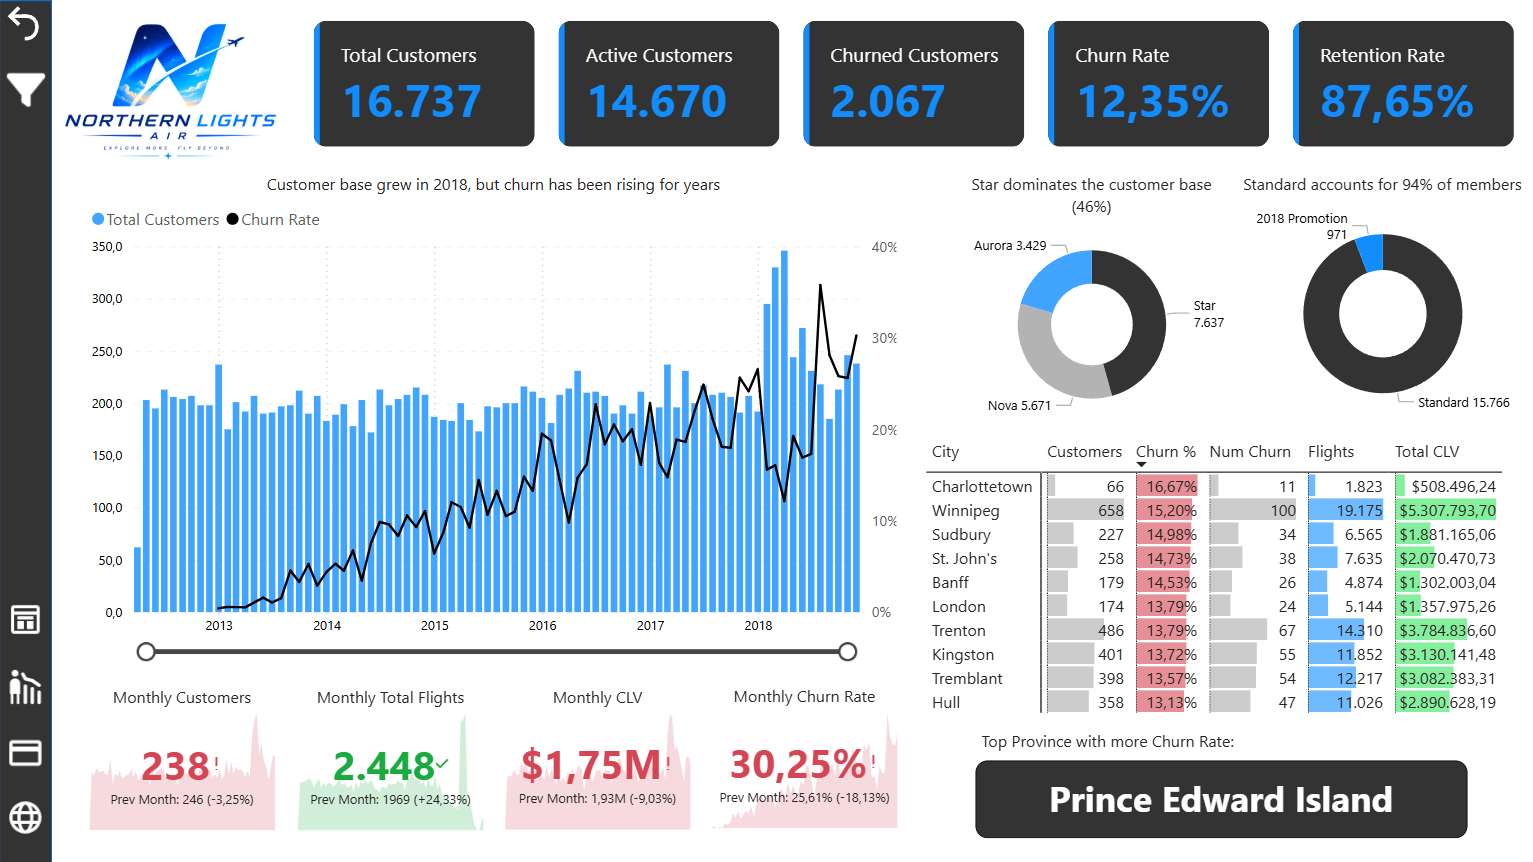

Layout of this report page (visuals, bound fields, positions):
{"tool":"powerbi","page":{"name":"Overview","canvas":[1280,720],"ordinal":0},"visuals":[{"type":"kpi","title":"Monthly Customers","fields":{"TrendLine":["Calendar.StartOfMonth"],"Goal":["Measures DAX.Previous Month Customers"],"Indicator":["Measures DAX.Total Customers (Time)"]},"box":[70.6,571.5,165,125.4],"z":0},{"type":"shape","box":[0,0,44.3,720],"z":1000},{"type":"image","box":[44.1,7.7,200.5,133.3],"z":2000},{"type":"lineStackedColumnComboChart","title":"Customer base grew in 2018, but churn has been rising for years","fields":{"Y2":["Measures DAX.Churn Rate (Time)"],"Y":["Measures DAX.Total Customers (Time)"],"Category":["Calendar.StartOfMonth"]},"box":[71.7,143.3,681.7,410],"z":3000},{"type":"cardVisual","fields":{"Data":["Measures DAX.Total Customers (Time)","Measures DAX.Active Customers (Time)","Measures DAX.Churned Customers (Time)","Measures DAX.Churn Rate (Time)","Measures DAX.Retencion Rate (Time)"]},"box":[244.4,0,1035.2,139.8],"z":4000},{"type":"actionButton","box":[1.4,0,44.3,38.6],"z":5000},{"type":"actionButton","box":[2,55,44.3,40],"z":6000},{"type":"donutChart","title":"Star dominates the customer base (46%)","fields":{"Category":["Customer_Loyalty_History.LoyaltyCard"],"Y":["Measures DAX.Total Customers (Time)"]},"box":[788.3,143.3,243.3,216.7],"z":7000},{"type":"kpi","title":"Monthly Total Flights","fields":{"TrendLine":["Calendar.StartOfMonth"],"Indicator":["Measures DAX.Total Flights (Time)"],"Goal":["Measures DAX.Previous Month Total Flights"]},"box":[243.2,571.4,165,125.7],"z":8000},{"type":"kpi","title":"Monthly CLV","fields":{"TrendLine":["Calendar.StartOfMonth"],"Goal":["Measures DAX.Previous Month CLV"],"Indicator":["Measures DAX.Total CLV (Time)"]},"box":[415.7,571.7,165,125.2],"z":9000},{"type":"kpi","title":"Monthly Churn Rate","fields":{"TrendLine":["Calendar.StartOfMonth"],"Indicator":["Measures DAX.Churn Rate (Time)"],"Goal":["Measures DAX.Previous Month Churn Rate"]},"box":[588.3,570,165,125],"z":10000},{"type":"donutChart","title":"Standard accounts for 94% of members","fields":{"Y":["Measures DAX.Total Customers (Time)"],"Category":["Customer_Loyalty_History.EnrollmentType"]},"box":[1031.7,143.3,243.3,216.7],"z":11000},{"type":"textbox","box":[813.8,602.1,224.8,31.6],"z":12000},{"type":"card","fields":{"Values":["Min(Customer_Loyalty_History.Province)"]},"box":[813.8,633.7,410.2,64.4],"z":13000},{"type":"pivotTable","fields":{"Rows":["Customer_Loyalty_History.City"],"Values":["Measures DAX.Total Customers (Time)","Measures DAX.Churn Rate (Time)","Measures DAX.Churned Customers (Time)","Measures DAX.Total Flights (Time)","Measures DAX.Total CLV (Time)"]},"box":[766.9,359.9,491.1,239.9],"z":14000},{"type":"actionButton","box":[0,496.7,44.2,40],"z":15000},{"type":"actionButton","box":[0,551.9,44.4,40],"z":16000},{"type":"actionButton","box":[0,607.3,44.4,40],"z":17000},{"type":"actionButton","box":[0,661.4,44.3,40],"z":18000}]}

Visuals, with their boxes on the page's 1280x720 design canvas (x1, y1, x2, y2). These are canvas units, not pixel positions in the 1533x862 screenshot, which may show the page scaled, cropped or inside an application window:
"Monthly Customers" kpi: crop(71, 572, 236, 697)
shape: crop(0, 0, 44, 720)
image: crop(44, 8, 245, 141)
"Customer base grew in 2018, but churn has been rising for years" lineStackedColumnComboChart: crop(72, 143, 753, 553)
cardVisual - Measures DAX.Total Customers (Time) x Measures DAX.Active Customers (Time): crop(244, 0, 1280, 140)
actionButton: crop(1, 0, 46, 39)
actionButton: crop(2, 55, 46, 95)
"Star dominates the customer base (46%)" donutChart: crop(788, 143, 1032, 360)
"Monthly Total Flights" kpi: crop(243, 571, 408, 697)
"Monthly CLV" kpi: crop(416, 572, 581, 697)
"Monthly Churn Rate" kpi: crop(588, 570, 753, 695)
"Standard accounts for 94% of members" donutChart: crop(1032, 143, 1275, 360)
textbox: crop(814, 602, 1039, 634)
card - Min(Customer_Loyalty_History.Province): crop(814, 634, 1224, 698)
pivotTable - Customer_Loyalty_History.City x Measures DAX.Total Customers (Time): crop(767, 360, 1258, 600)
actionButton: crop(0, 497, 44, 537)
actionButton: crop(0, 552, 44, 592)
actionButton: crop(0, 607, 44, 647)
actionButton: crop(0, 661, 44, 701)
